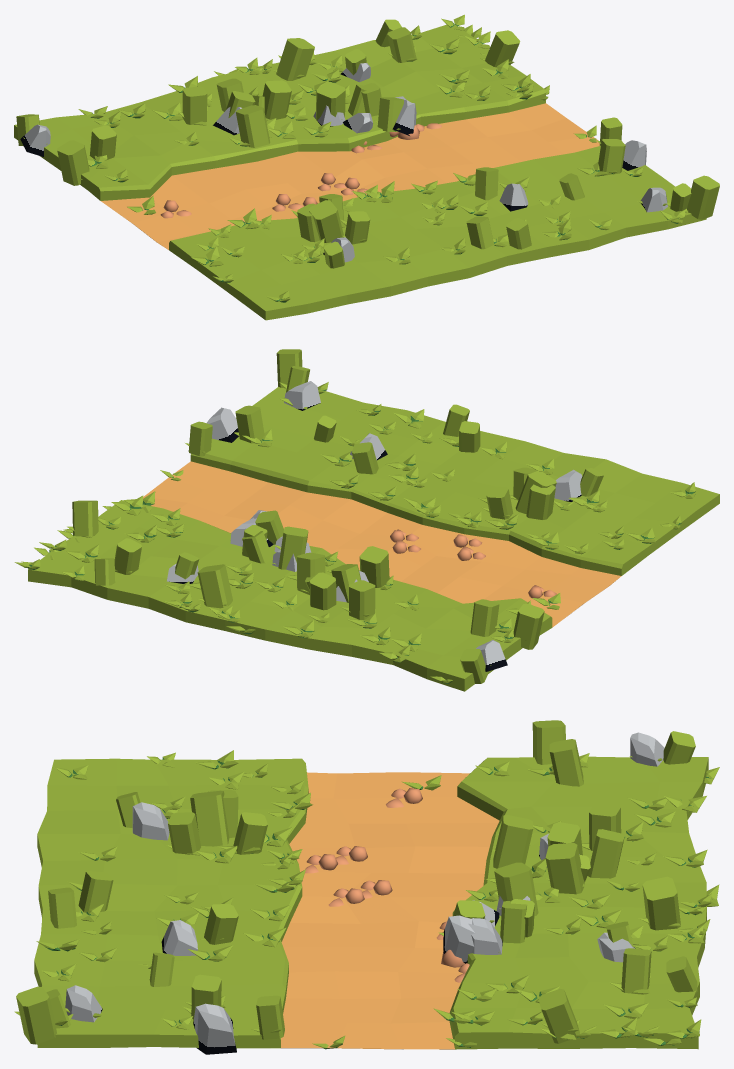
Rendered from level.glb.
3 renders of one model, top to bottom at view 1: azimuth 30°, elevation 25°; view 2: azimuth 150°, elevation 25°; view 3: azimuth 270°, elevation 25°, orthographic. The views are drawn at different scales.
Parts seen in each view (by area): view 1: Plane, Particles; view 2: Plane, Particles; view 3: Plane, Particles.
Boxes of the visible parts, x1,y1,x2,y2 form: Plane: (14, 24, 706, 320); Particles: (16, 14, 719, 302); Plane: (28, 386, 719, 691); Particles: (14, 349, 695, 683); Plane: (34, 756, 708, 1049); Particles: (14, 720, 719, 1054).
Size of the model in its own units: 21.34 by 2.78 by 21.64.
Materials: 1 (1 with a texture image).
